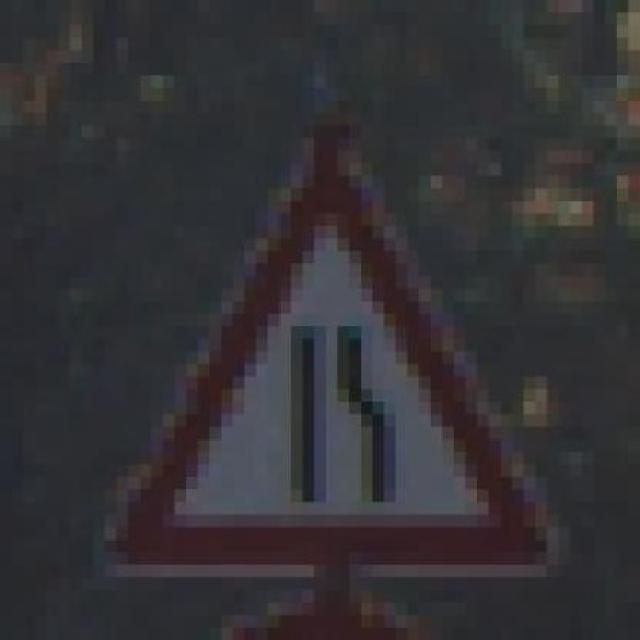-Road narrows on right: (82, 113, 570, 578)
